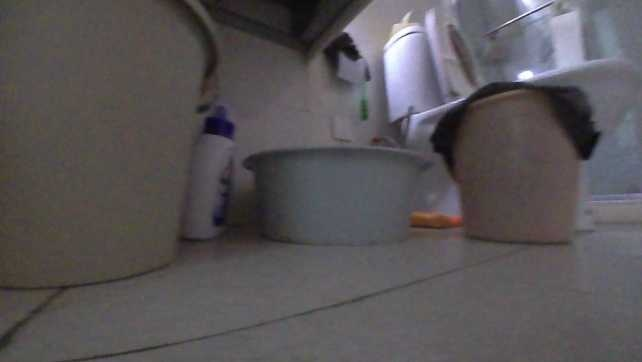toilet: (380, 7, 640, 235)
trash_can: (437, 79, 580, 249)
